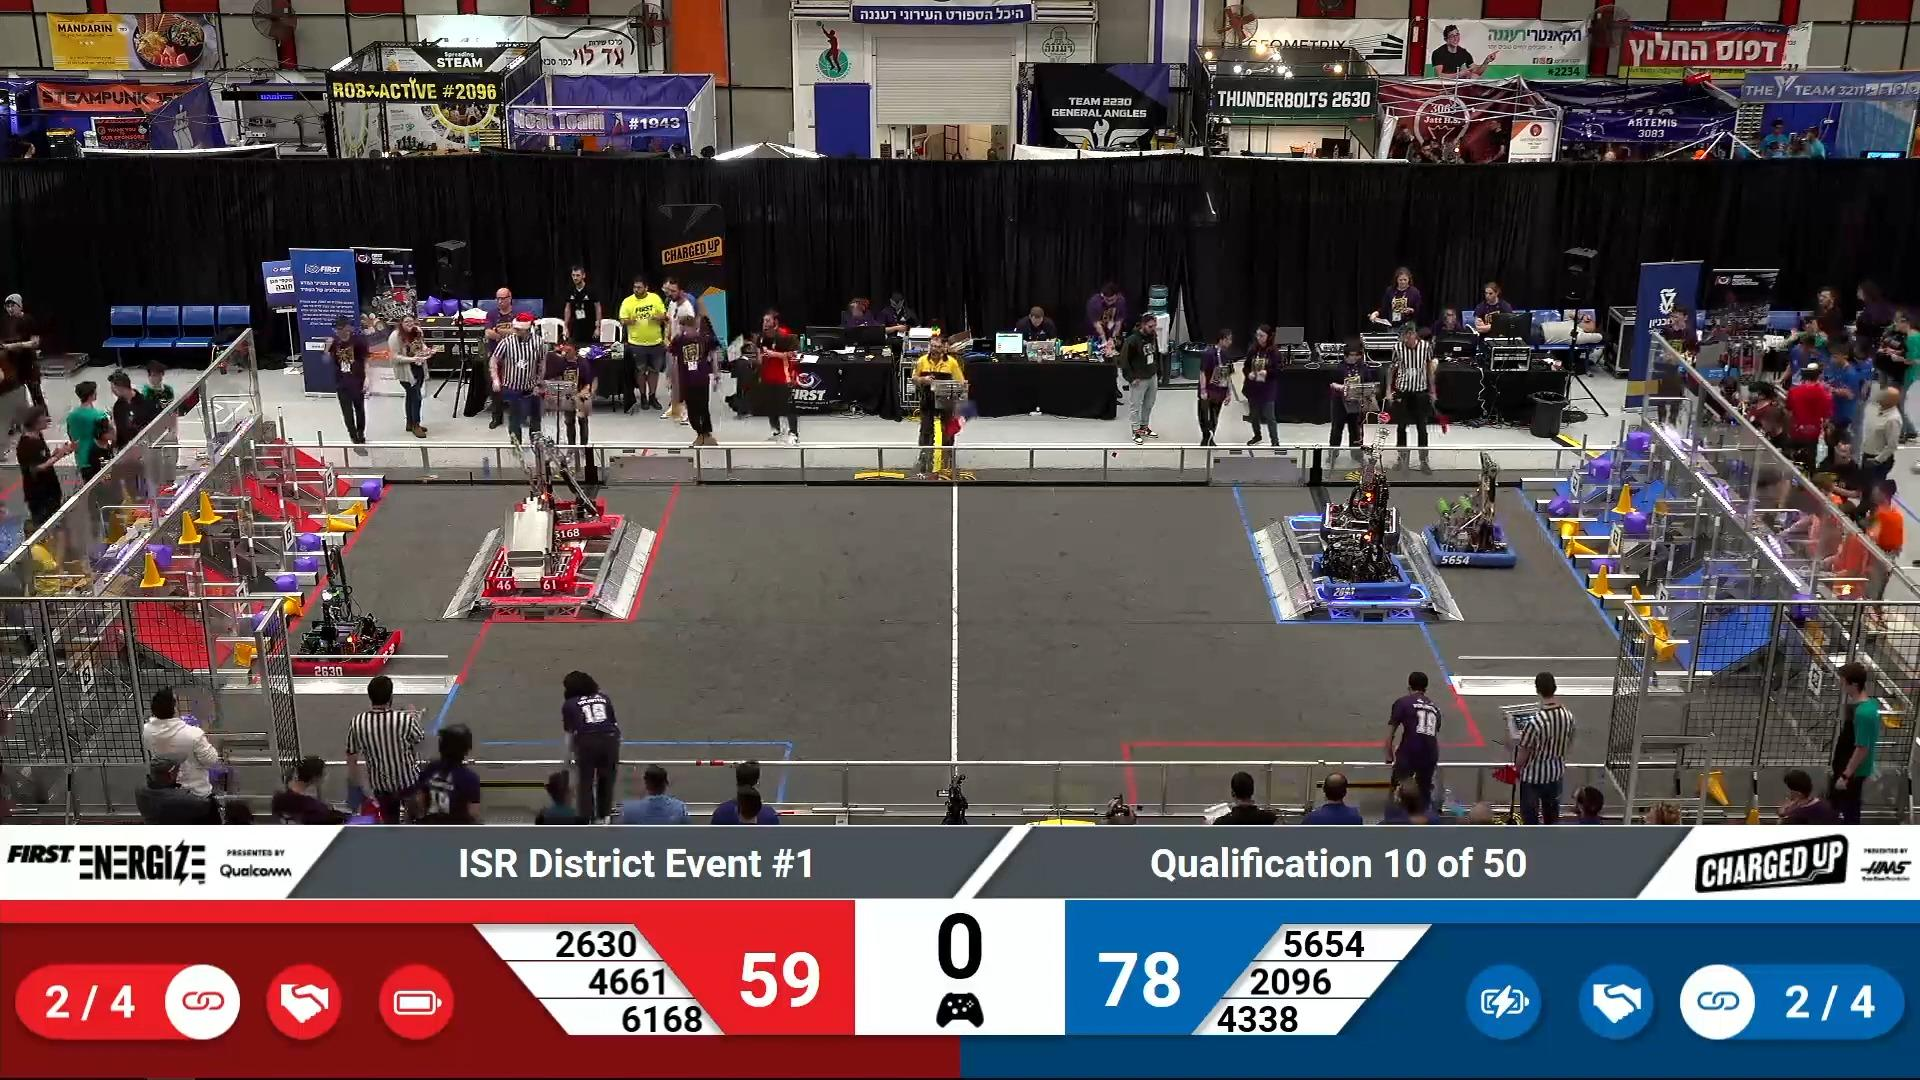robot: (1423, 443, 1514, 574), (513, 433, 617, 539), (293, 588, 402, 674), (481, 513, 584, 599), (1303, 533, 1414, 600), (1316, 464, 1404, 546)
